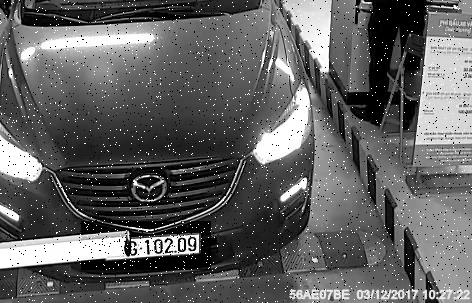License-plate: (82, 222, 212, 271)
